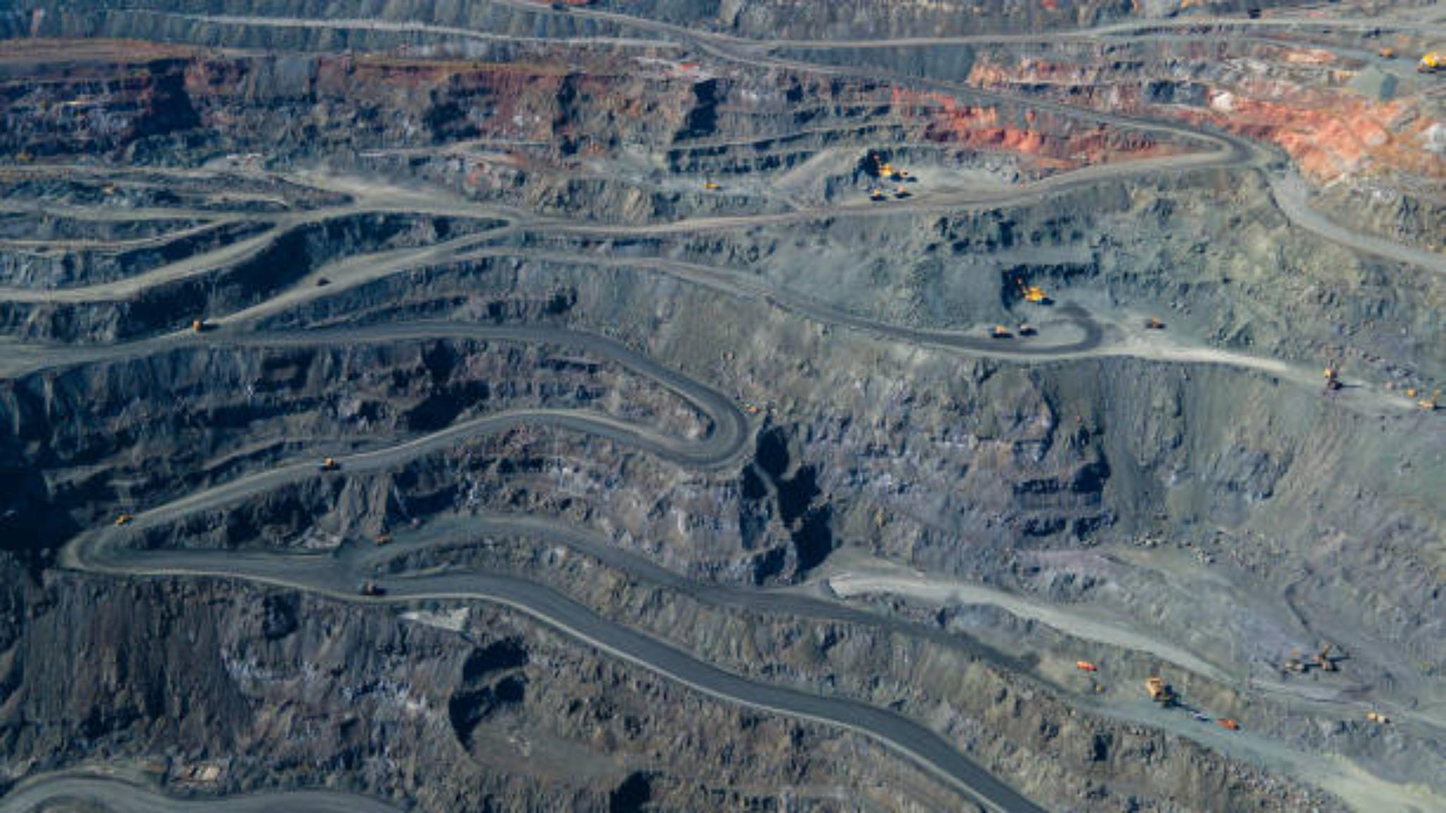benches: (373, 567, 1040, 811), (310, 324, 747, 470), (168, 147, 874, 232), (397, 518, 881, 619), (879, 123, 1262, 208), (69, 539, 380, 600), (137, 459, 317, 527), (1288, 194, 1444, 272), (0, 270, 158, 298), (319, 255, 435, 284), (159, 241, 246, 277)
wall: (775, 359, 1444, 709), (437, 425, 763, 581)
